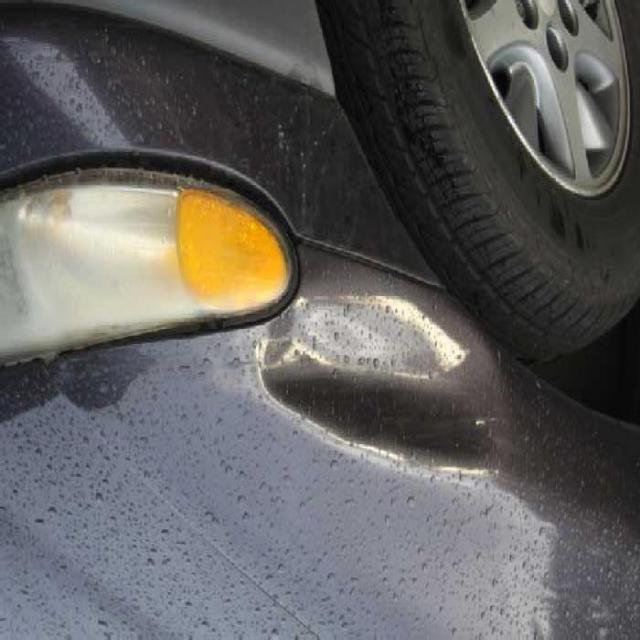dent: (246, 260, 519, 487)
